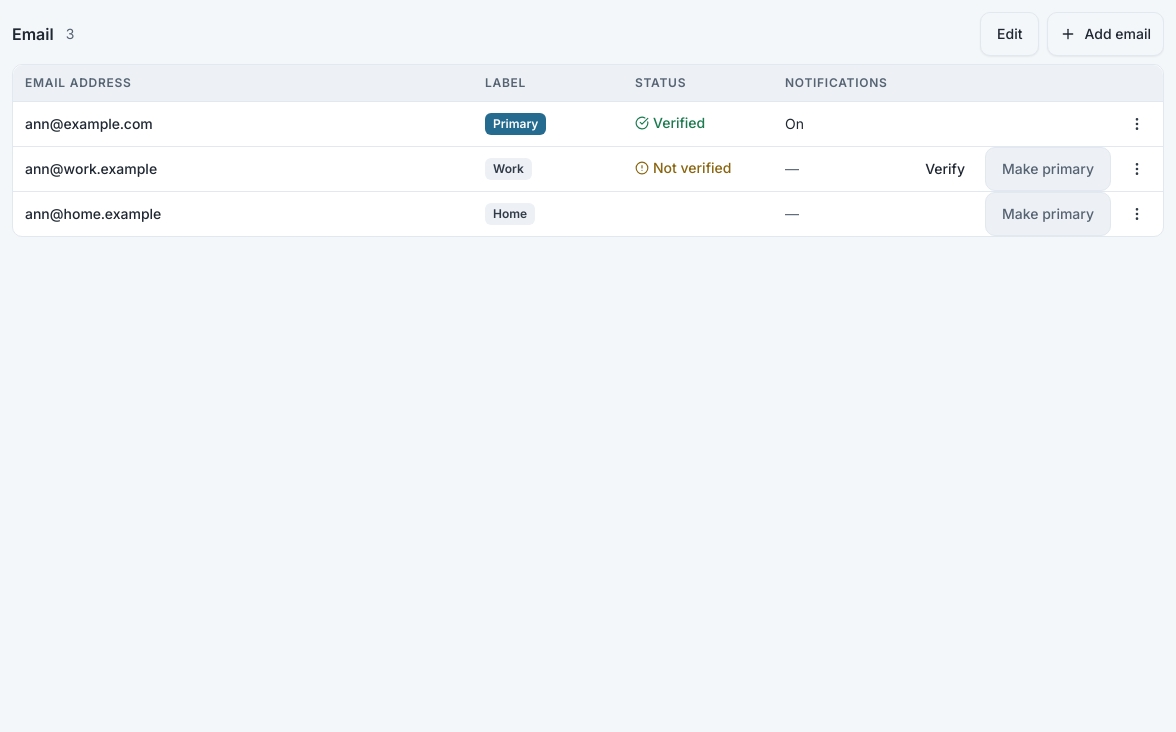
Scenario: EmailSection: auto-verify after a save (Story 3.6) › Auto-verify: the manage POST, then one verify for the new unverified email; "Email saved."; the row counts down; "Link sent" announced once (0 ms response)
This screenshot has width=1176, height=732.
Click the button "Add email" at {"x": 1106, "y": 34}, box x1=1048 y1=12 x2=1164 y2=56
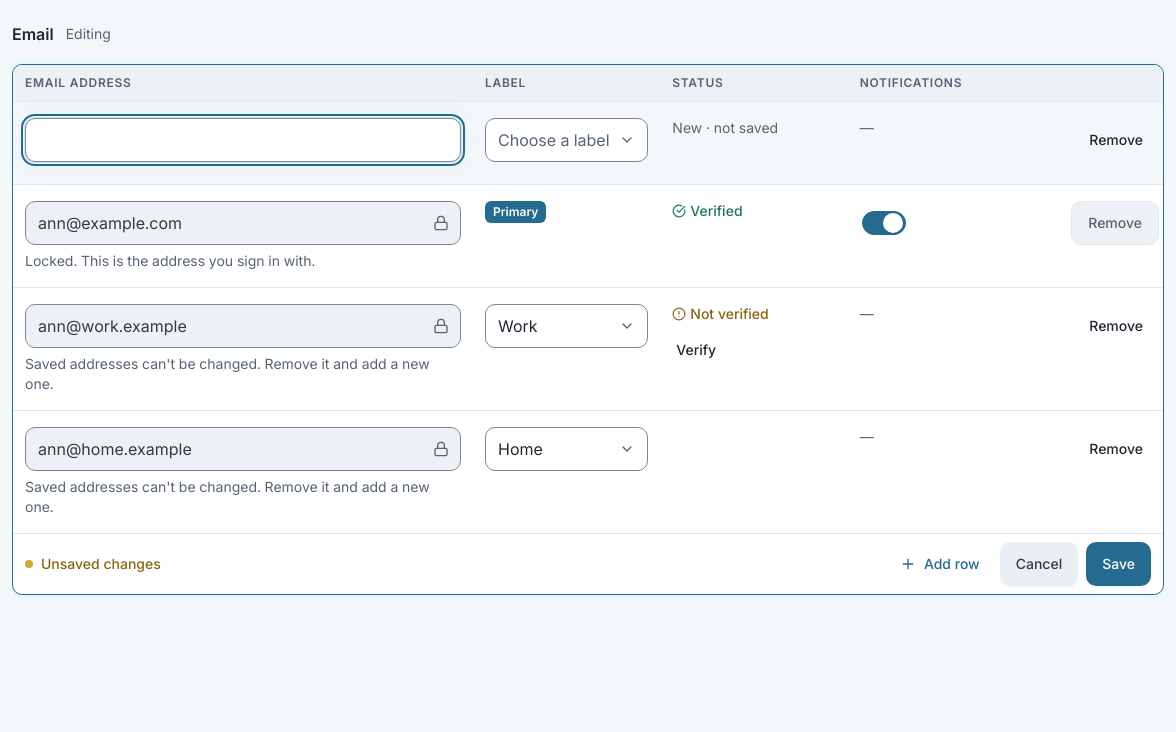
Type "b@x.com" into the field labelled "Email address" in the row of "New · not saved" at {"x": 243, "y": 140}, box x1=25 y1=118 x2=461 y2=162
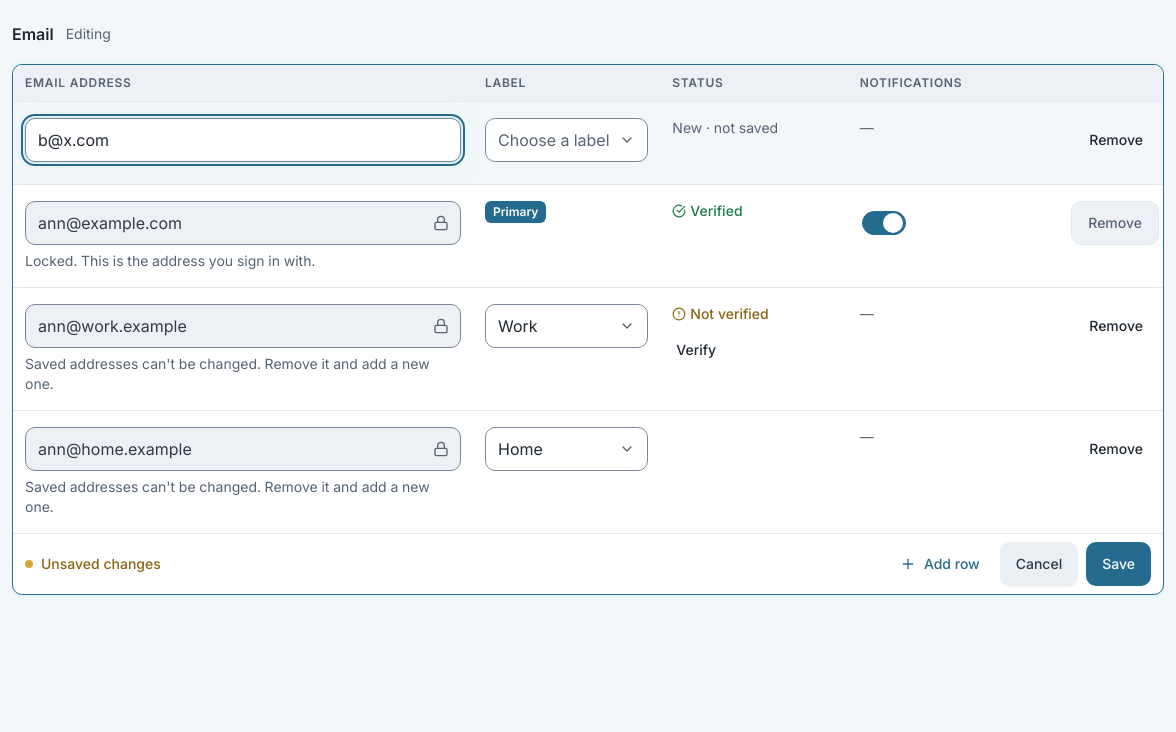
Press Enter in the dropdown labelled "label", box x1=485 y1=118 x2=648 y2=162
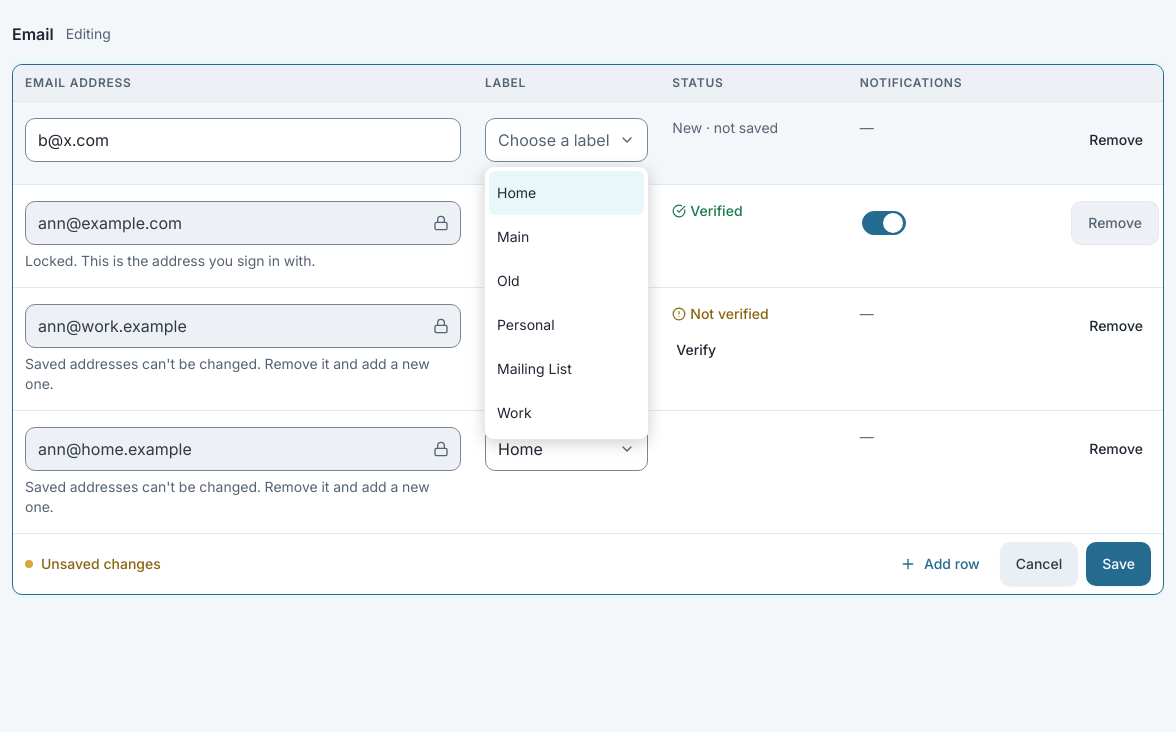
Click the option "Personal" at {"x": 526, "y": 324}, box x1=497 y1=316 x2=555 y2=333
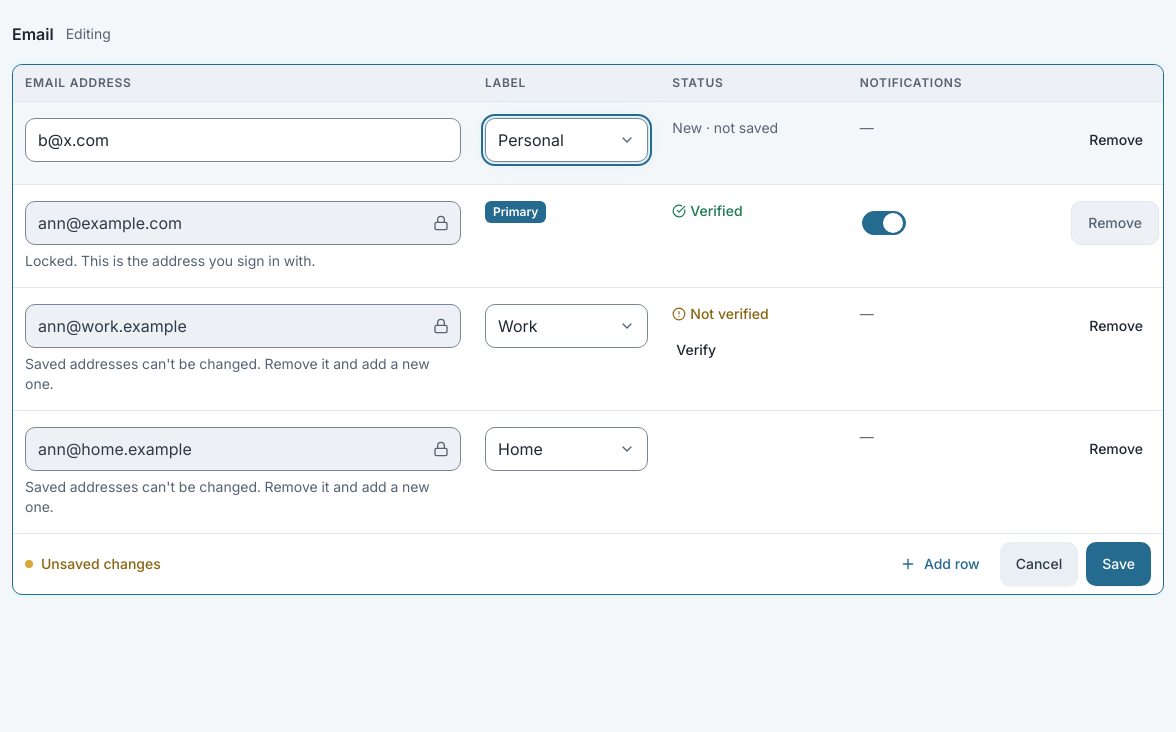
Result: the list is gone
Click the button "Save" at {"x": 1119, "y": 564}, box x1=1086 y1=542 x2=1151 y2=586
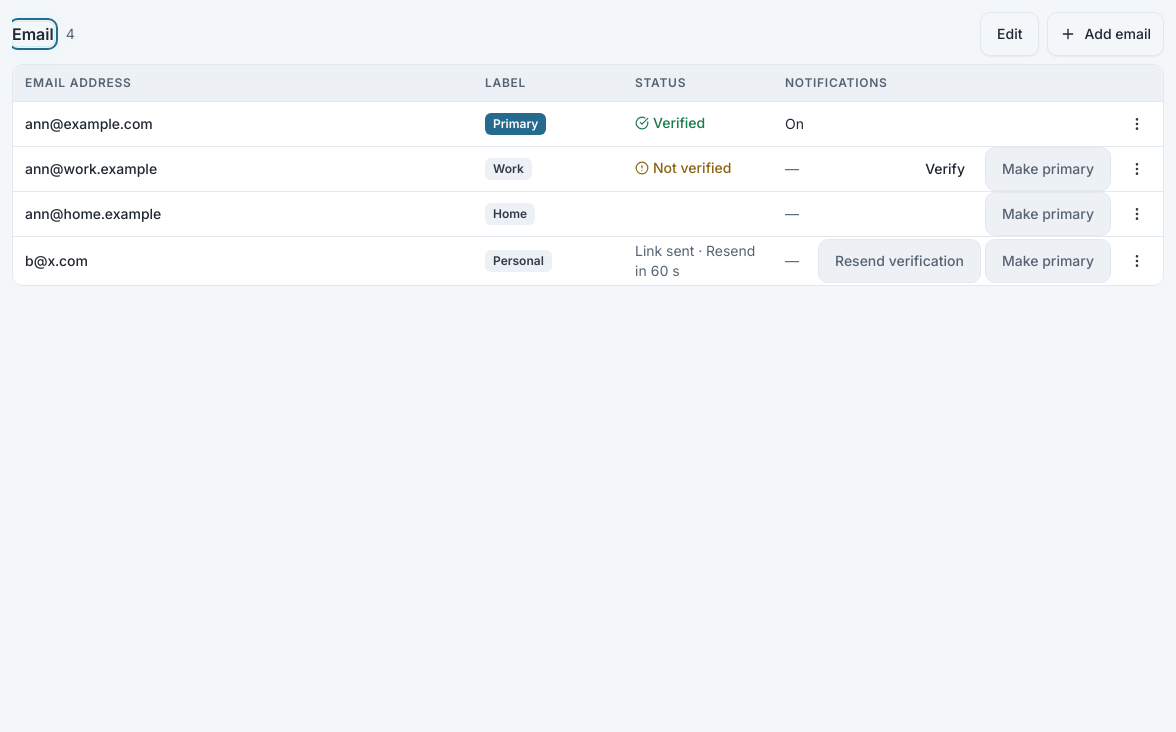
Expected: the button "Edit" is shown, x1=980 y1=12 x2=1040 y2=56
Result: the text "Link sent · Resend in 60 s" is shown at x1=635 y1=240 x2=761 y2=280
